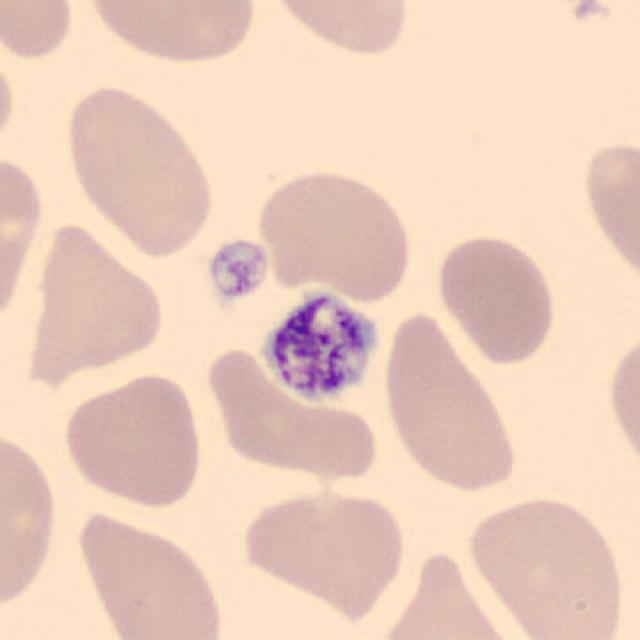Platelets: (260, 288, 382, 408), (203, 236, 272, 305)
RBC: (58, 80, 218, 260), (199, 335, 384, 488), (377, 305, 524, 497), (460, 490, 630, 640), (21, 217, 171, 381), (236, 483, 409, 624), (251, 164, 416, 301), (70, 504, 230, 640), (59, 368, 208, 509), (432, 231, 560, 367), (364, 548, 524, 640), (0, 423, 62, 617), (82, 0, 261, 67), (578, 136, 640, 287), (256, 0, 414, 58), (0, 148, 48, 335), (604, 326, 640, 476), (0, 0, 78, 63), (0, 41, 20, 164)
